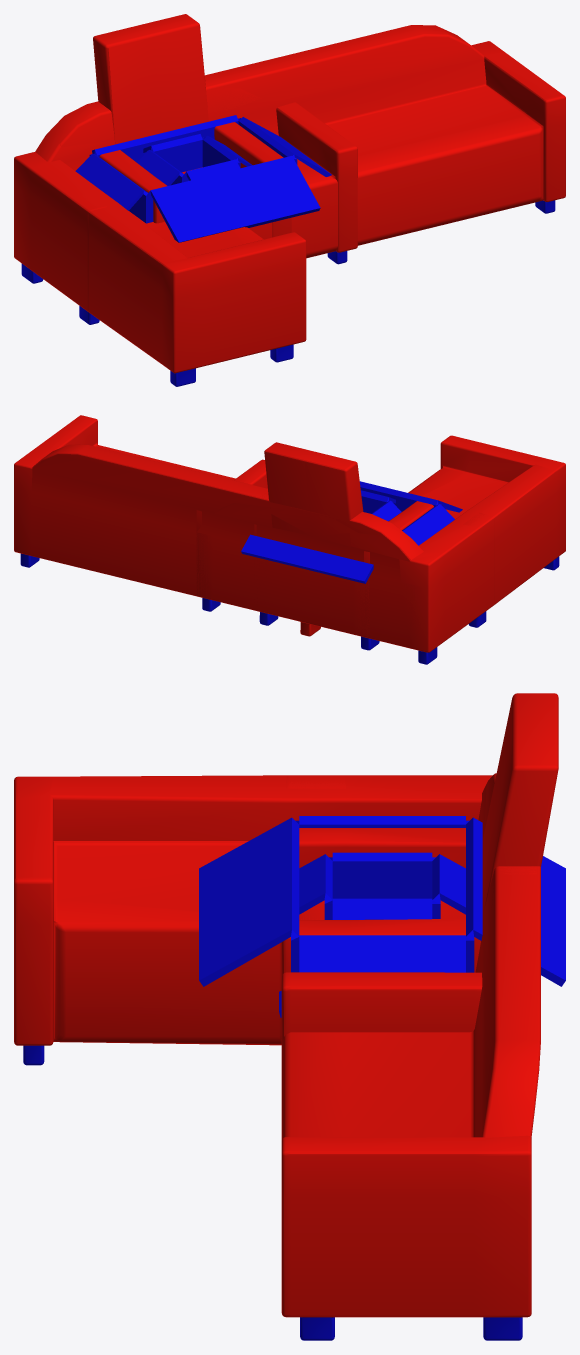
The model's file is couchesAndBoxes.glb.
The picture shows the model from 3 angles, top to bottom: view 1: azimuth 30°, elevation 25°; view 2: azimuth 150°, elevation 25°; view 3: azimuth 270°, elevation 25°; orthographic projection. The views are drawn at different scales.
Visible parts, largest first — view 1: LCouch, Couch, LazyChair, CardboardBox.001, CardboardBox.002; view 2: LCouch, Couch, LazyChair, CardboardBox.001, CardboardBox.002; view 3: LCouch, CardboardBox.001, LazyChair, Couch, CardboardBox.002.
Part boxes in pixels (x1,y1,x2,y2): LCouch: [14, 25, 565, 386]; Couch: [14, 77, 357, 322]; LazyChair: [93, 14, 291, 237]; CardboardBox.001: [75, 115, 331, 242]; CardboardBox.002: [137, 134, 252, 185]; LCouch: [14, 415, 565, 664]; Couch: [196, 459, 494, 662]; LazyChair: [254, 442, 433, 650]; CardboardBox.001: [241, 481, 462, 583]; CardboardBox.002: [361, 490, 401, 521]; LCouch: [14, 773, 540, 1340]; CardboardBox.001: [199, 816, 565, 986]; LazyChair: [281, 693, 558, 976]; Couch: [281, 776, 536, 1140]; CardboardBox.002: [299, 852, 465, 919].
Size of the model in its own units: 9.77 by 4.15 by 6.02.
